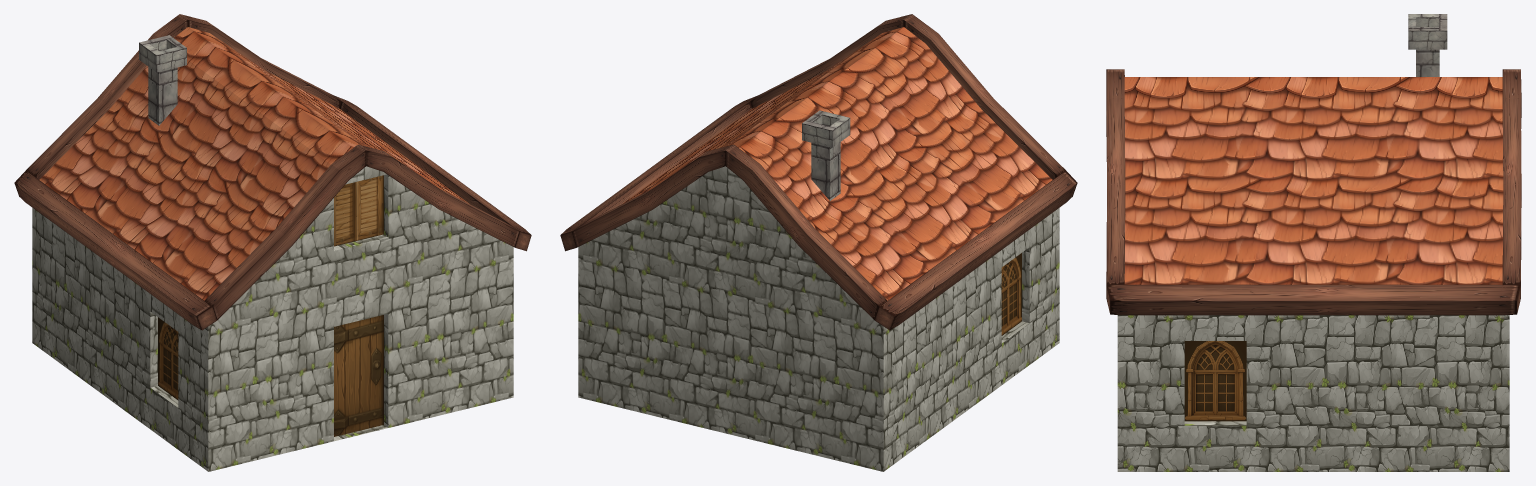
The model's file is maison (1).fbx.
The picture shows the model from 3 angles, left to right: view 1: azimuth 30°, elevation 25°; view 2: azimuth 150°, elevation 25°; view 3: azimuth 270°, elevation 25°; orthographic projection. The views are drawn at different scales.
Parts seen in each view (by area): view 1: MAISON, TOIT_TUILE, TOIT_BOIS, MAISON_WINDOOR, Cube; view 2: MAISON, TOIT_TUILE, TOIT_BOIS, Cube, MAISON_WINDOOR; view 3: TOIT_TUILE, MAISON, TOIT_BOIS, MAISON_WINDOOR, Cube.
Boxes of the visible parts, x1,y1,x2,y2 form: MAISON: (32, 166, 513, 471); TOIT_TUILE: (39, 27, 468, 300); TOIT_BOIS: (14, 14, 531, 330); MAISON_WINDOOR: (158, 175, 383, 436); Cube: (139, 35, 186, 125); MAISON: (578, 166, 1059, 471); TOIT_TUILE: (623, 27, 1052, 300); TOIT_BOIS: (560, 14, 1077, 330); Cube: (802, 110, 850, 200); MAISON_WINDOOR: (1001, 253, 1021, 335); TOIT_TUILE: (1124, 77, 1503, 284); MAISON: (1117, 315, 1509, 471); TOIT_BOIS: (1106, 69, 1521, 315); MAISON_WINDOOR: (1184, 341, 1246, 421); Cube: (1408, 14, 1447, 76).
Size of the model in its own units: 442 by 378 by 424.
